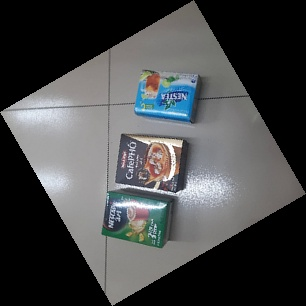CF pho: (115, 133, 188, 193)
Nes Rang: (99, 189, 173, 249)
Nestea: (133, 69, 202, 125)
